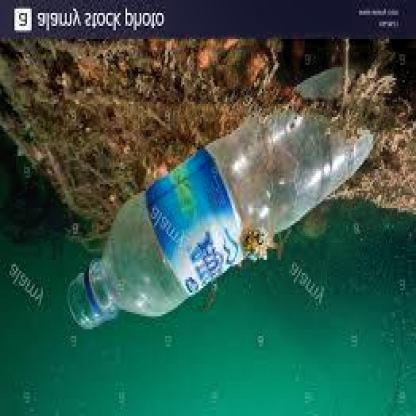pbottle: (64, 60, 381, 344)
